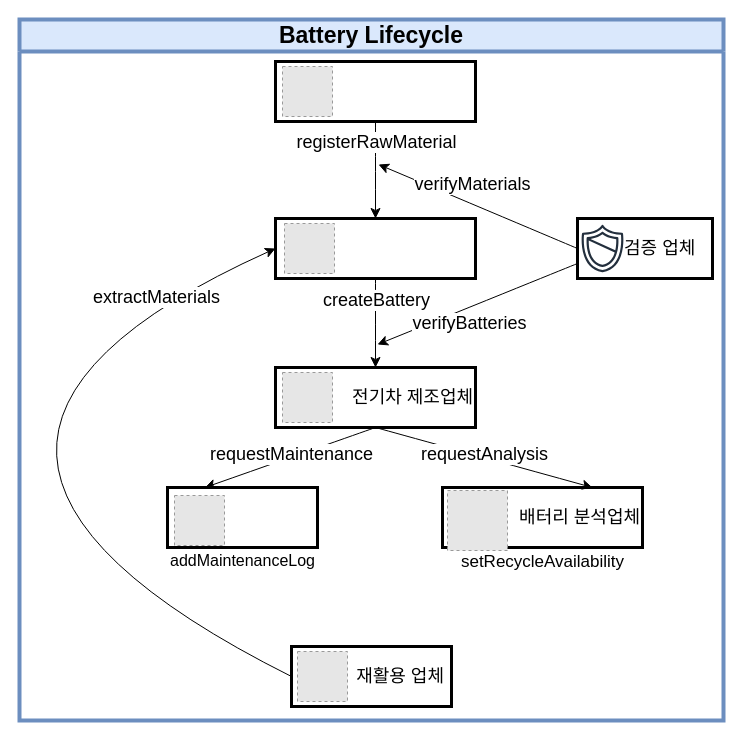
The diagram is 742 pixels wide and 739 high, and some of its shapes have lost their labels. Grey dashed boxes stand in for pictures. Each missing label, with the box of its shape:
배터리 제조업체: (274, 216, 476, 280)
원자재 공급업체: (274, 60, 476, 122)
정비 업체: (166, 486, 318, 548)
